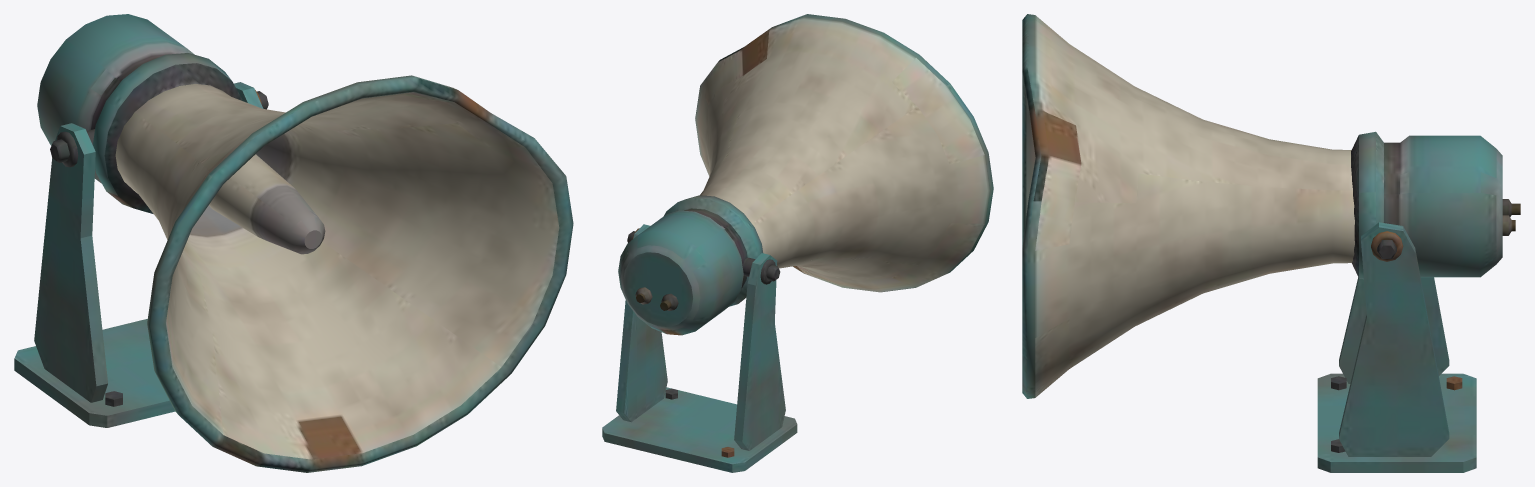
Rendered from U19_loudspeaker_horn.glb.
The picture shows the model from 3 angles, left to right: view 1: azimuth 30°, elevation 25°; view 2: azimuth 150°, elevation 25°; view 3: azimuth 270°, elevation 25°; orthographic projection. The views are drawn at different scales.
Visible parts, largest first — view 1: Factory PA Horn; view 2: Factory PA Horn; view 3: Factory PA Horn.
Boxes of the visible parts, x1=… form: Factory PA Horn: x1=14, y1=14, x2=573, y2=472; Factory PA Horn: x1=602, y1=14, x2=993, y2=472; Factory PA Horn: x1=1022, y1=14, x2=1520, y2=472.
Bounding box in the file's own units: 0.435 × 0.4335 × 0.5.
Materials: 7 (7 with a texture image).
